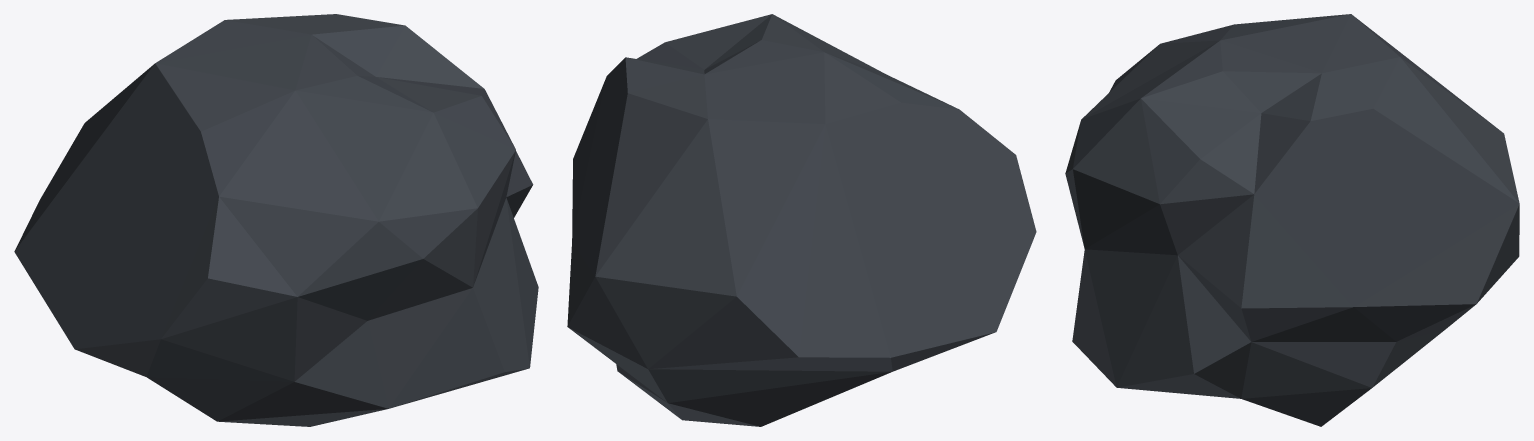
File: stone_drop2_v1.fbx
3 views of the same model, side by side, from view 1: azimuth 30°, elevation 25°; view 2: azimuth 150°, elevation 25°; view 3: azimuth 270°, elevation 25° (orthographic). The views are drawn at different scales.
Parts seen in each view (by area): view 1: stone_drop2_v1; view 2: stone_drop2_v1; view 3: stone_drop2_v1.
Part boxes in pixels (<box>): stone_drop2_v1: <box>14,14,538,426</box>; stone_drop2_v1: <box>567,14,1036,426</box>; stone_drop2_v1: <box>1065,14,1519,426</box>.
Size of the model in its own units: 12.89 by 10.02 by 12.01.
